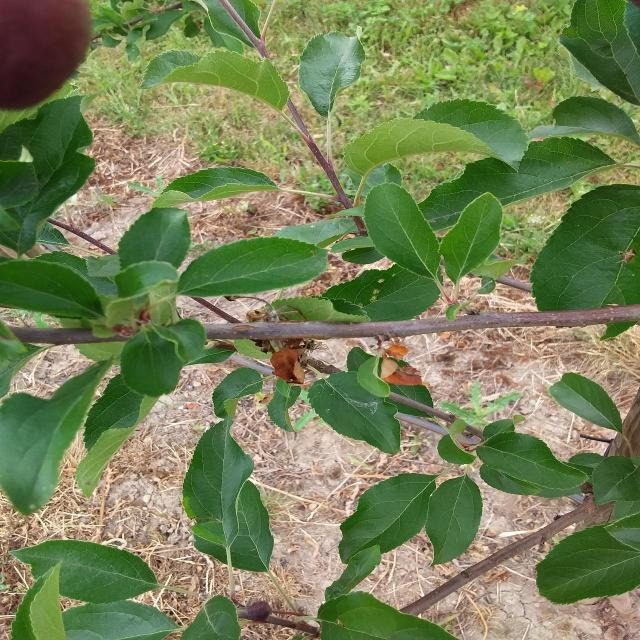-FireBlight-: (260, 328, 300, 383), (378, 347, 418, 391)
